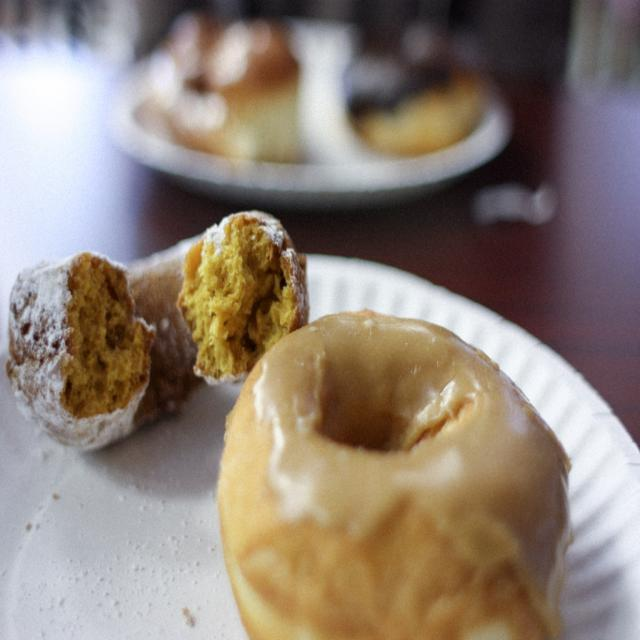Bagel: (216, 306, 574, 638)
